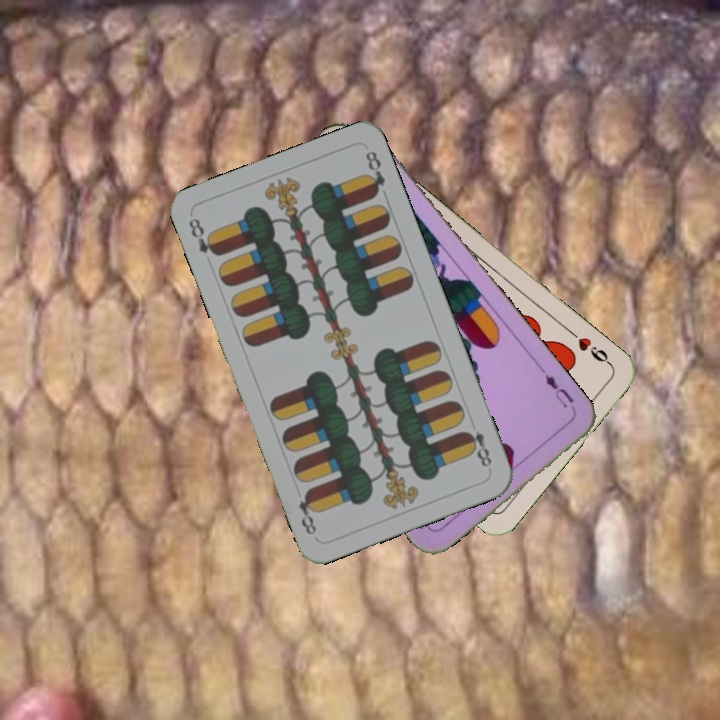E8: (184, 213, 222, 259), (460, 426, 495, 470)
EU: (537, 366, 579, 416)
H9: (565, 326, 614, 368)
